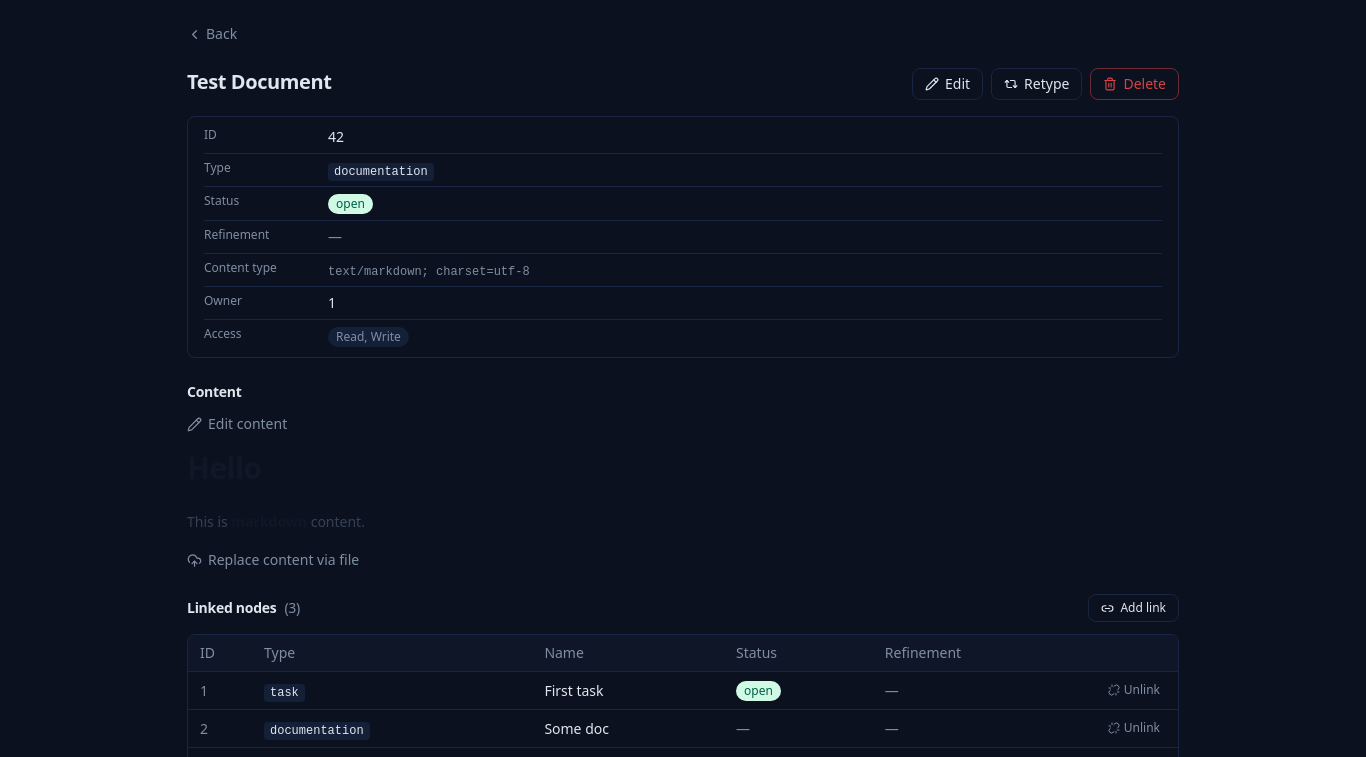
Test case: NodeDetailPage — write affordances › opens edit dialog when Edit is clicked
The width and height of the screenshot is (1366, 757).
What coordinates should you click on to do the following:
click the button with aria-label "edit node"
I would click on:
 (948, 84)
Its box is [912,68,983,100].
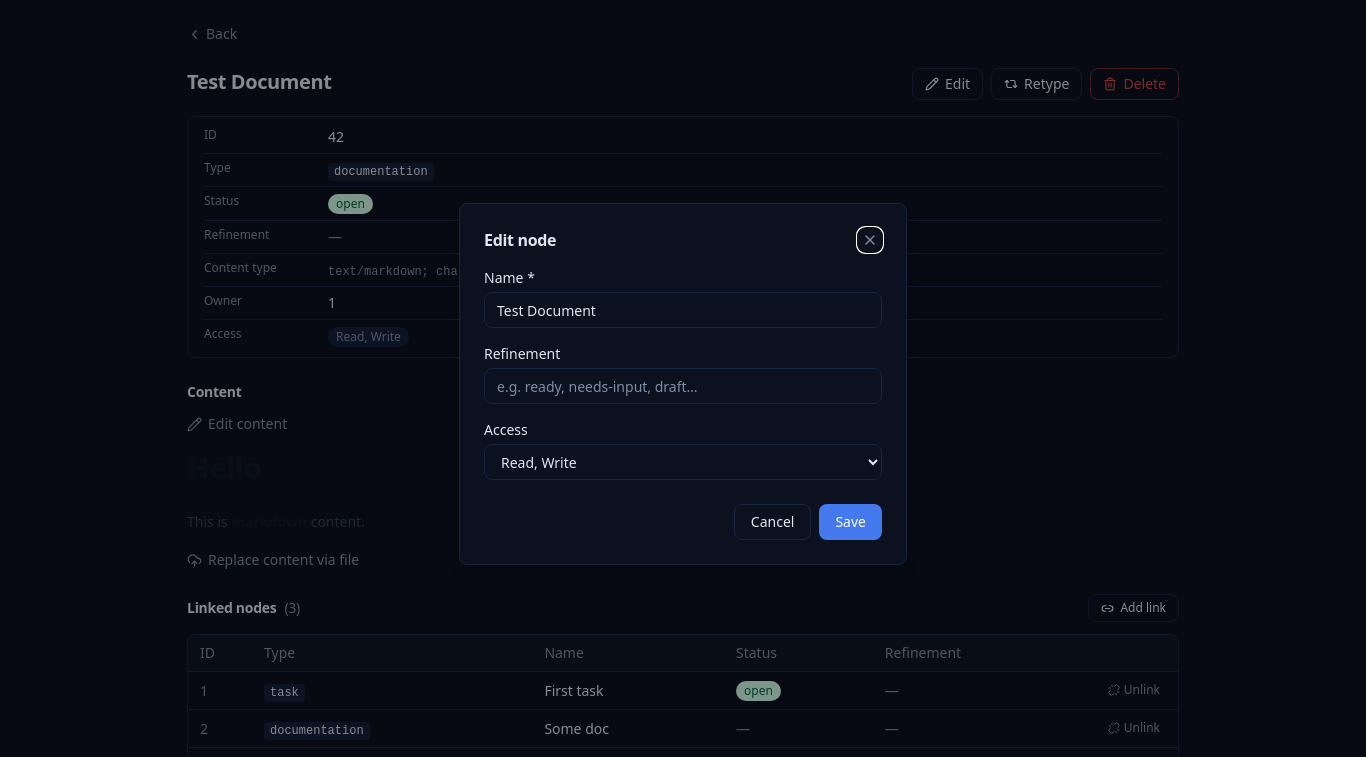
Result: the dialog "Edit node Name * Refinement Access Cancel Save" is shown at [459,203,907,565]
